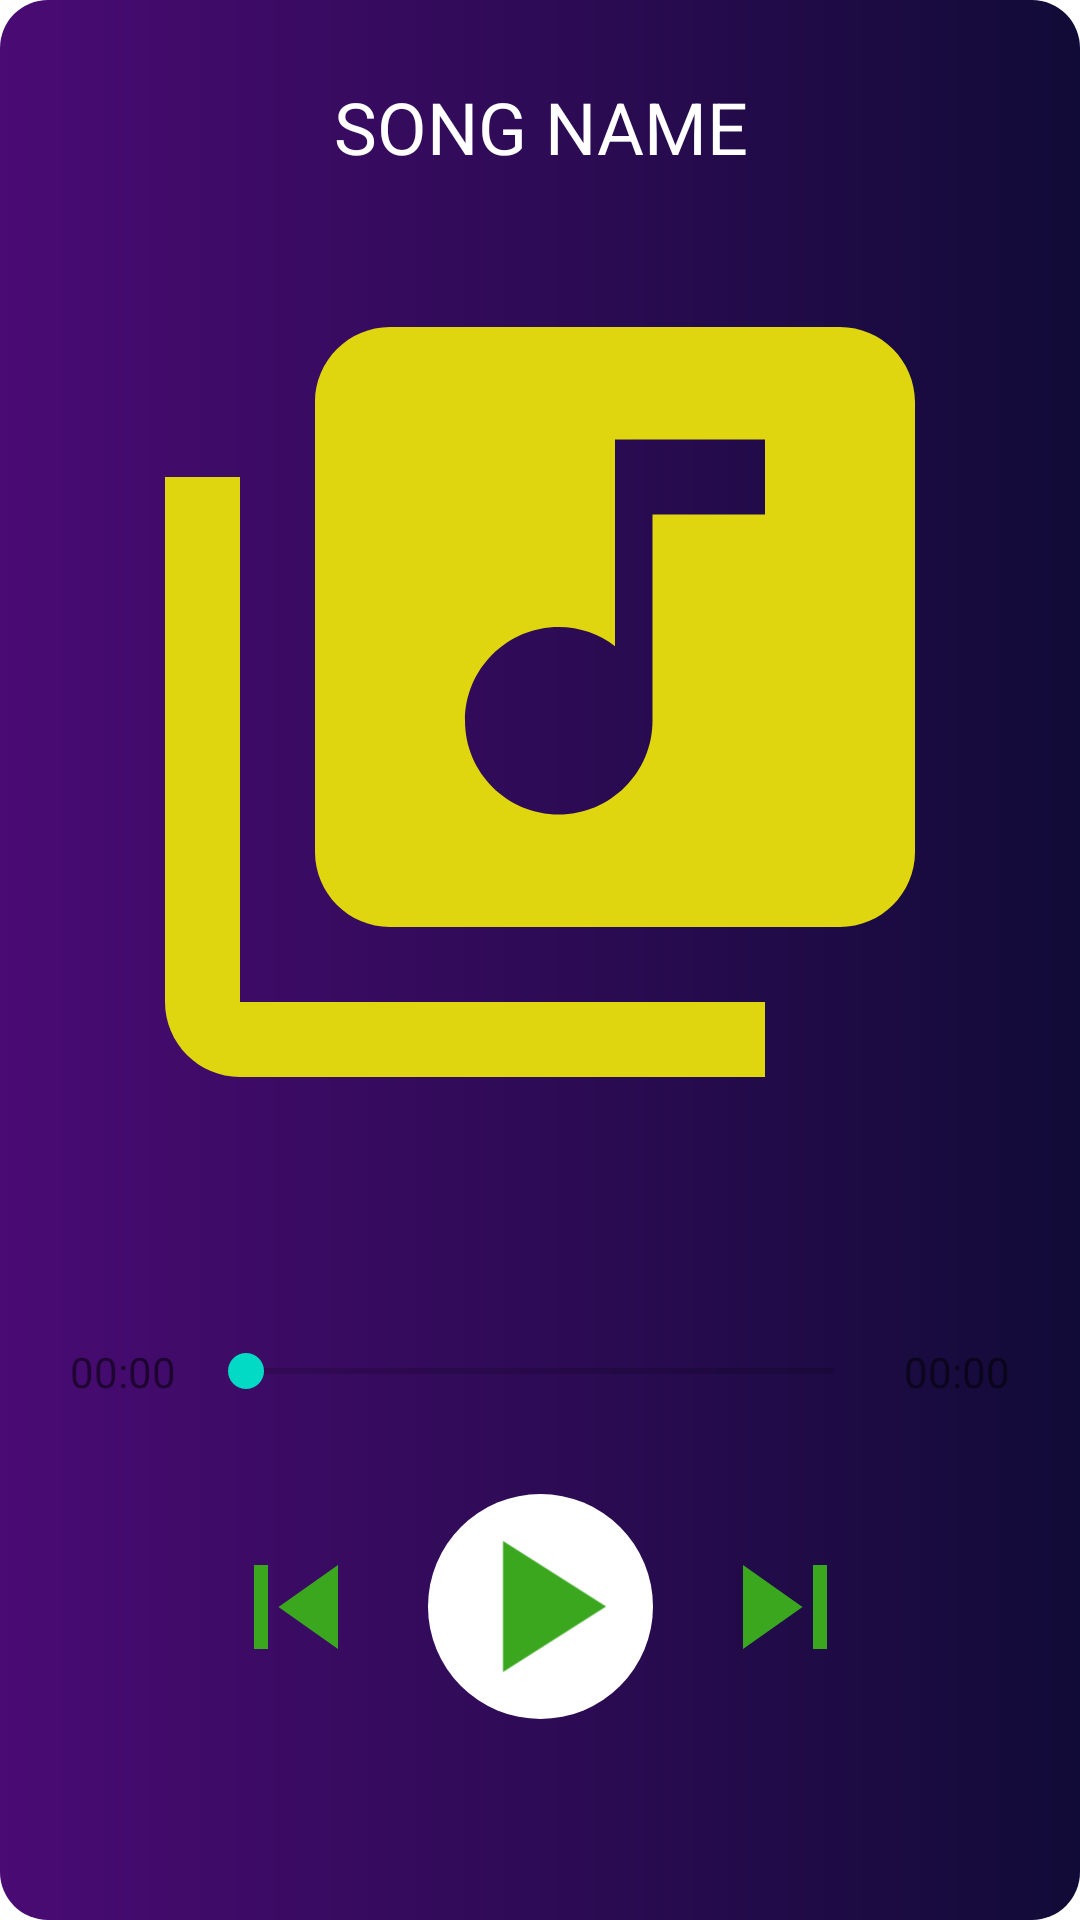

Point at icon controls on the screen. Image size 1080 x 1920, points as (x,y).
play: (540,1606)
skip: (785,1607)
skip previous: (296,1607)
